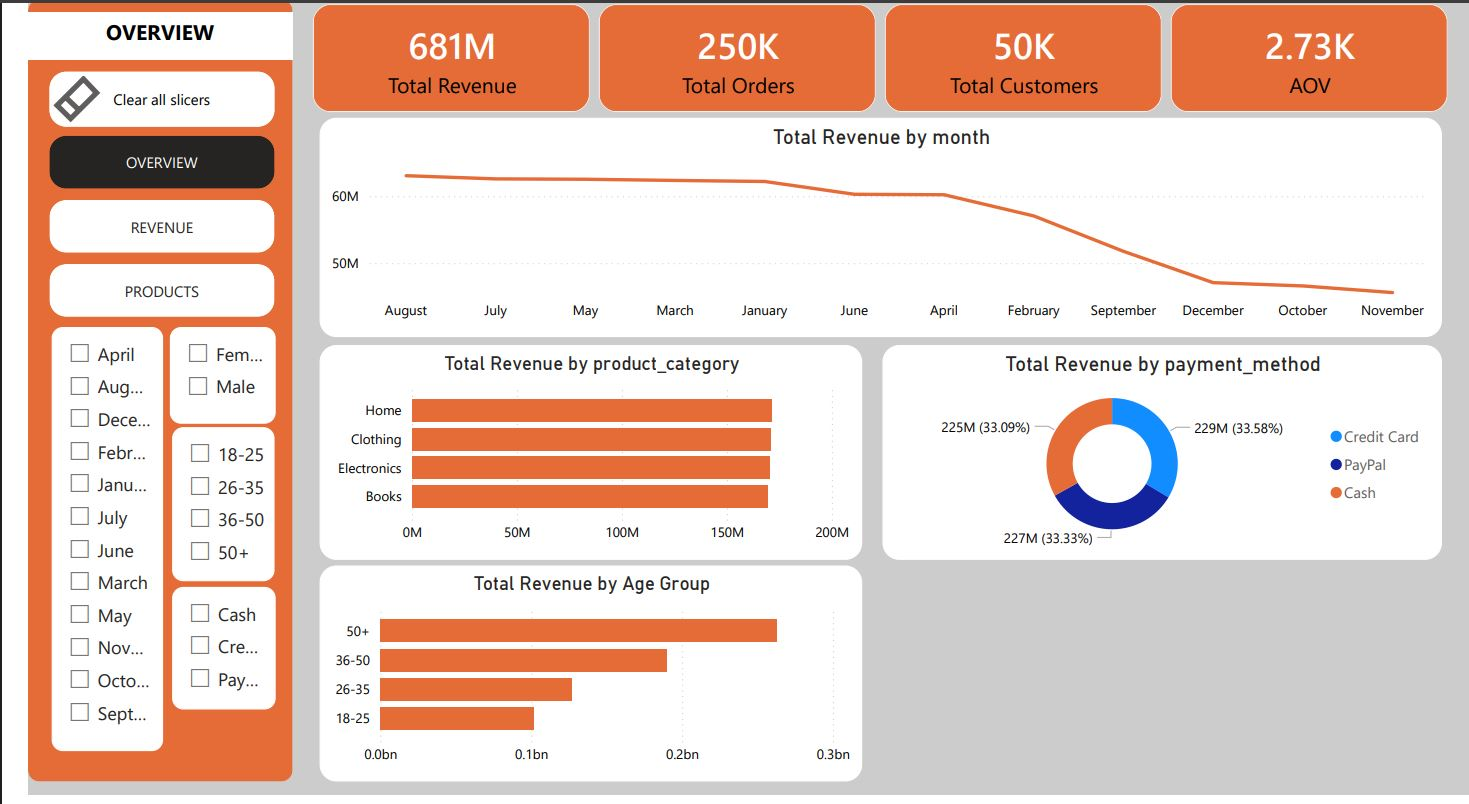

The dashboard page shown, as its layout file describes it:
{"tool":"powerbi","page":{"name":"OVERVIEW","canvas":[1280,720],"ordinal":0},"visuals":[{"type":"shape","box":[0,12.8,235,695],"z":0},{"type":"cardVisual","fields":{"Data":["calculation.Total Revenue","calculation.Total Orders","calculation.Total Customers","calculation.AOV"]},"box":[236.5,0,1043.3,130],"z":1000},{"type":"clusteredBarChart","fields":{"Category":["ecommerce_customer_data_large_cleaned.product_category"],"Y":["calculation.Total Revenue"]},"box":[258.8,319.5,482.5,191.7],"z":2000},{"type":"donutChart","fields":{"Category":["ecommerce_customer_data_large_cleaned.payment_method"],"Y":["calculation.Total Revenue"]},"box":[758.9,319.5,496.9,191.7],"z":3000},{"type":"lineChart","fields":{"Category":["ecommerce_customer_data_large_cleaned.month"],"Y":["calculation.Total Revenue"]},"box":[258.8,118.2,996.9,194.9],"z":4000},{"type":"pageNavigator","box":[19.2,134.2,199.7,163],"z":5000},{"type":"actionButton","box":[19.2,76.7,199.7,49.5],"z":6000},{"type":"clusteredBarChart","fields":{"Category":["ecommerce_customer_data_large_cleaned.Age Group"],"Y":["calculation.Total Revenue"]},"box":[258.8,516,482.5,191.7],"z":7000},{"type":"textbox","box":[0,24,234.9,41.5],"z":8000},{"type":"slicer","fields":{"Values":["ecommerce_customer_data_large_cleaned.gender"]},"box":[126.2,303.6,94.3,86.3],"z":9000},{"type":"slicer","fields":{"Values":["ecommerce_customer_data_large_cleaned.Age Group"]},"box":[127.8,393,91.1,137.4],"z":9001},{"type":"slicer","fields":{"Values":["ecommerce_customer_data_large_cleaned.month"]},"box":[20.8,303.6,99.1,377.1],"z":9002},{"type":"slicer","fields":{"Values":["ecommerce_customer_data_large_cleaned.payment_method"]},"box":[127.8,535.2,92.7,108.6],"z":9003}]}

Visuals, with their boxes in screenshot pixels (x1, y1, x2, y2), scaled from the page's 1280x720 canvas onto the 1469x804 screenshot:
shape: bbox=[0, 14, 270, 790]
cardVisual - calculation.Total Revenue x calculation.Total Orders: bbox=[271, 0, 1468, 145]
clusteredBarChart - ecommerce_customer_data_large_cleaned.product_category x calculation.Total Revenue: bbox=[297, 357, 851, 571]
donutChart - ecommerce_customer_data_large_cleaned.payment_method x calculation.Total Revenue: bbox=[871, 357, 1441, 571]
lineChart - ecommerce_customer_data_large_cleaned.month x calculation.Total Revenue: bbox=[297, 132, 1441, 350]
pageNavigator: bbox=[22, 150, 251, 332]
actionButton: bbox=[22, 86, 251, 141]
clusteredBarChart - ecommerce_customer_data_large_cleaned.Age Group x calculation.Total Revenue: bbox=[297, 576, 851, 790]
textbox: bbox=[0, 27, 270, 73]
slicer - ecommerce_customer_data_large_cleaned.gender: bbox=[145, 339, 253, 435]
slicer - ecommerce_customer_data_large_cleaned.Age Group: bbox=[147, 439, 251, 592]
slicer - ecommerce_customer_data_large_cleaned.month: bbox=[24, 339, 138, 760]
slicer - ecommerce_customer_data_large_cleaned.payment_method: bbox=[147, 598, 253, 719]
